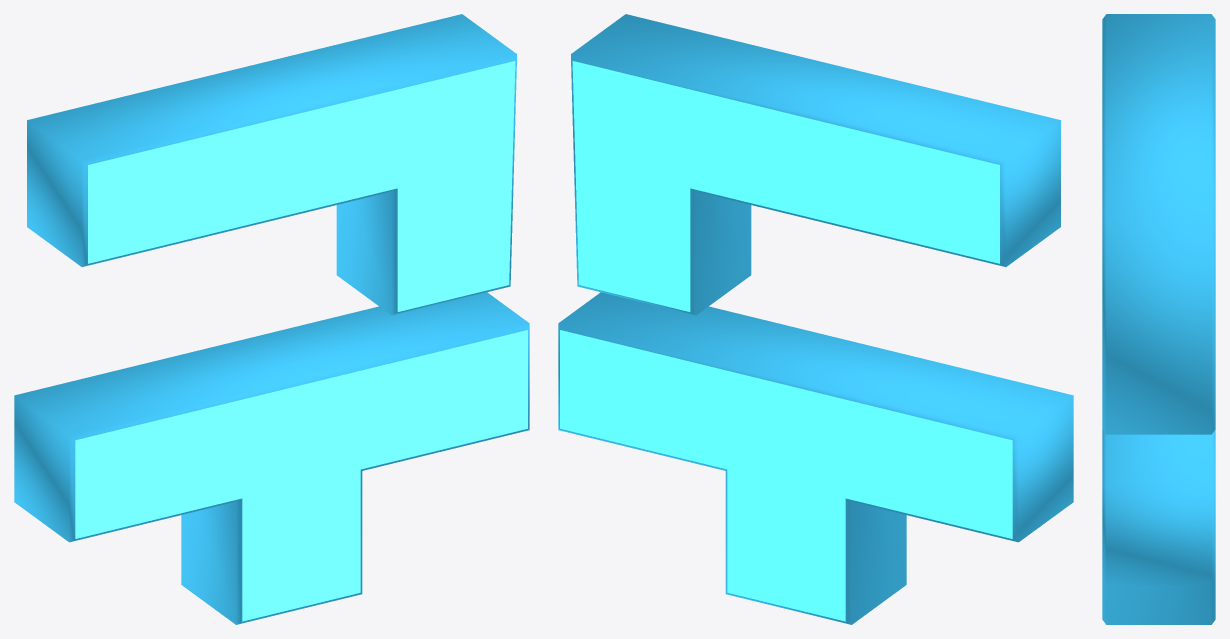
3 renders of one model, left to right at view 1: azimuth 30°, elevation 25°; view 2: azimuth 150°, elevation 25°; view 3: azimuth 270°, elevation 25°, orthographic. The views are drawn at different scales.
Parts seen in each view (by area): view 1: glyph; view 2: glyph; view 3: glyph.
Part boxes in pixels (x1=…): glyph: x1=14, y1=14, x2=529, y2=624; glyph: x1=558, y1=14, x2=1073, y2=624; glyph: x1=1102, y1=14, x2=1215, y2=624.
Size of the model in its own units: 0.0725 by 0.0756 by 0.0162.
